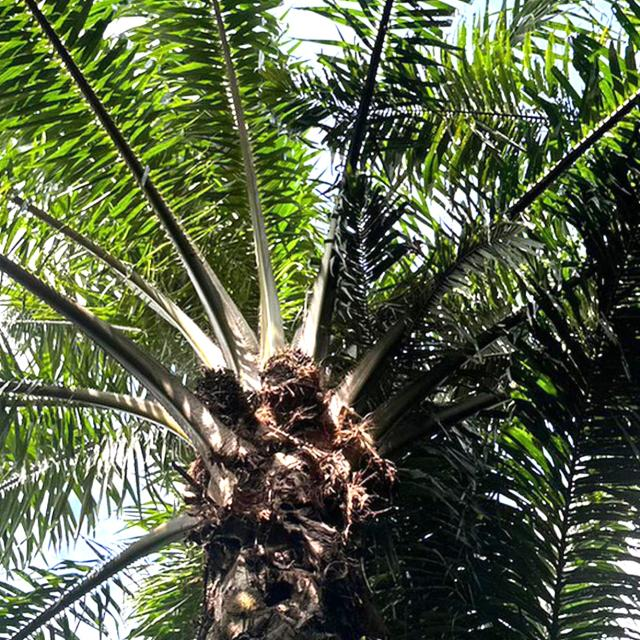unripe: (195, 363, 252, 421)
